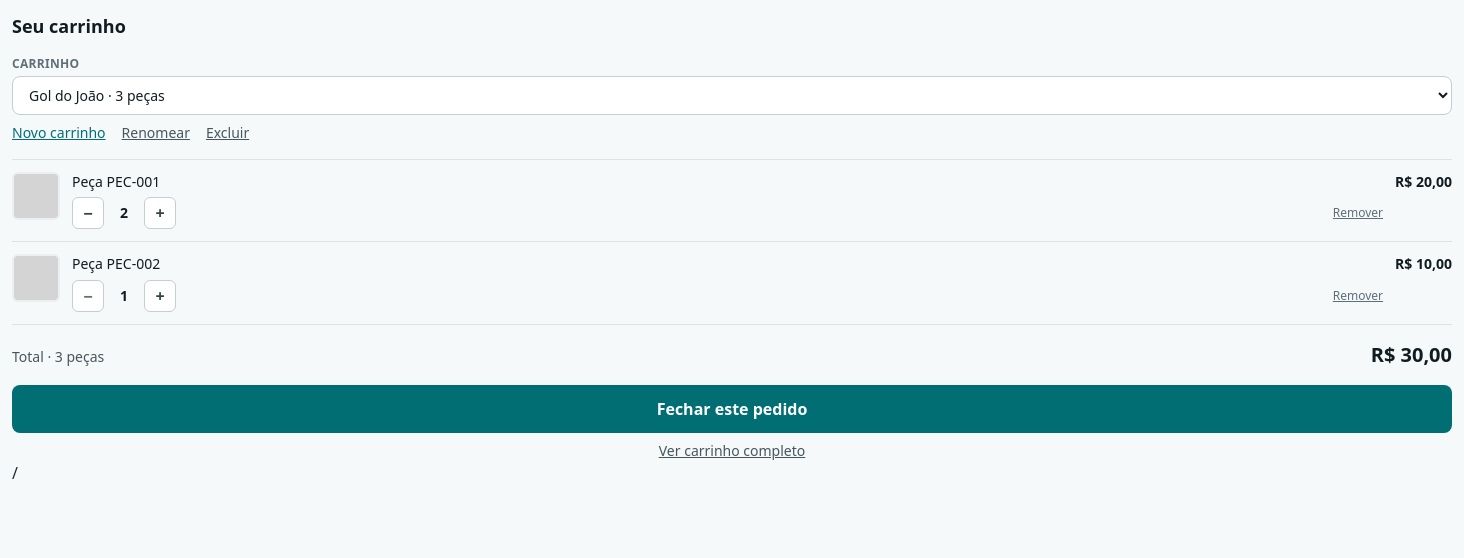
PainelCarrinho: editar itens › erro do servidor (estoque) aparece no painel sem derrubar o carrinho
Expected: the link "Peça PEC-001" is shown, top-left (72, 172), bottom-right (160, 191)
Click the button named "Aumentar quantidade de Peça PEC-001" at (160, 213), box top-left (144, 197), bottom-right (176, 229)
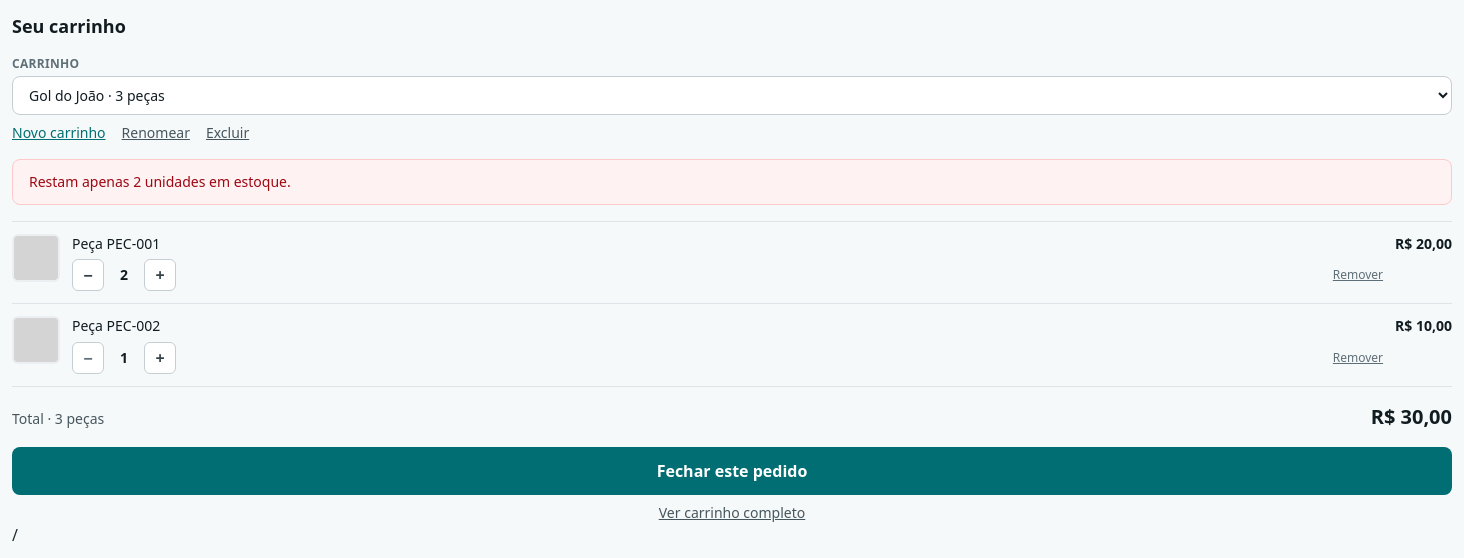
Expected: the link "Peça PEC-001" is shown, top-left (72, 234), bottom-right (160, 253)
Result: the message shows "Restam apenas 2 unidades" at top-left (29, 172), bottom-right (291, 191)
